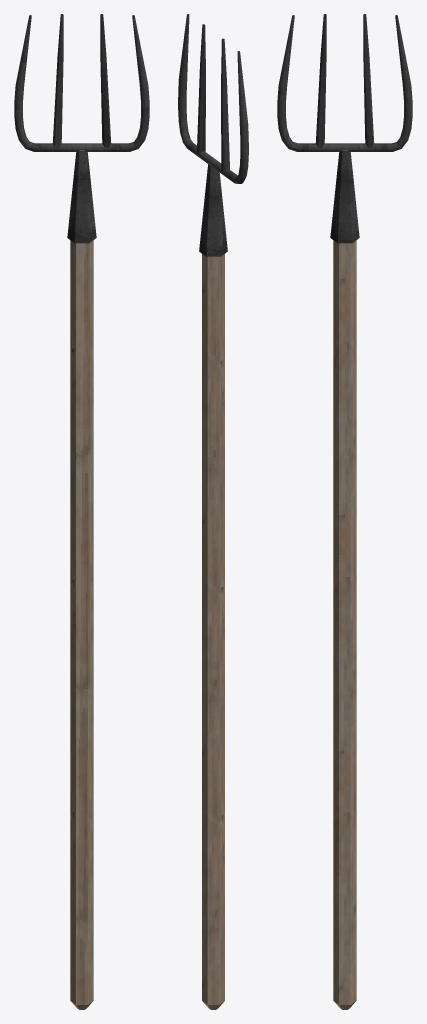
Rendered from PitchFork.fbx.
3 renders of one model, left to right at view 1: azimuth 90°, elevation 25°; view 2: azimuth 210°, elevation 25°; view 3: azimuth 270°, elevation 25°, orthographic.
Visible parts, largest first — view 1: Cylinder.002; view 2: Cylinder.002; view 3: Cylinder.002.
Boxes of the visible parts, x1,y1,x2,y2 form: Cylinder.002: (14, 14, 149, 1009); Cylinder.002: (178, 14, 248, 1009); Cylinder.002: (277, 14, 412, 1009).
Size of the model in its own units: 5.99 by 258 by 31.88.
